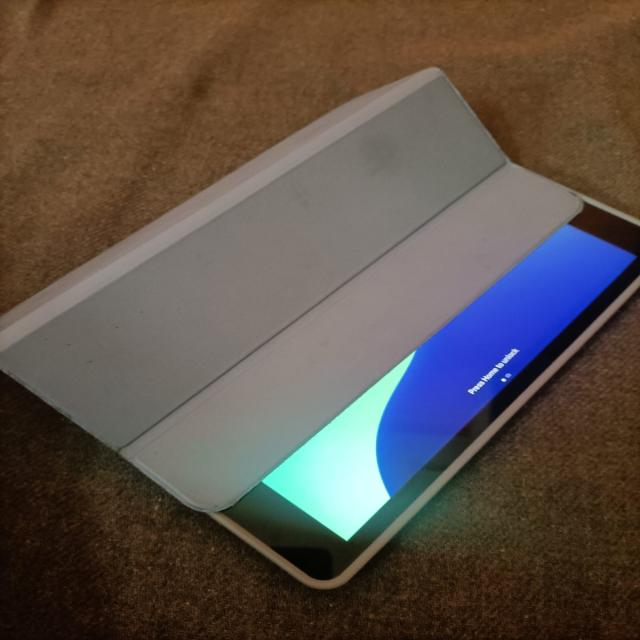tablet: (3, 4, 640, 625)
